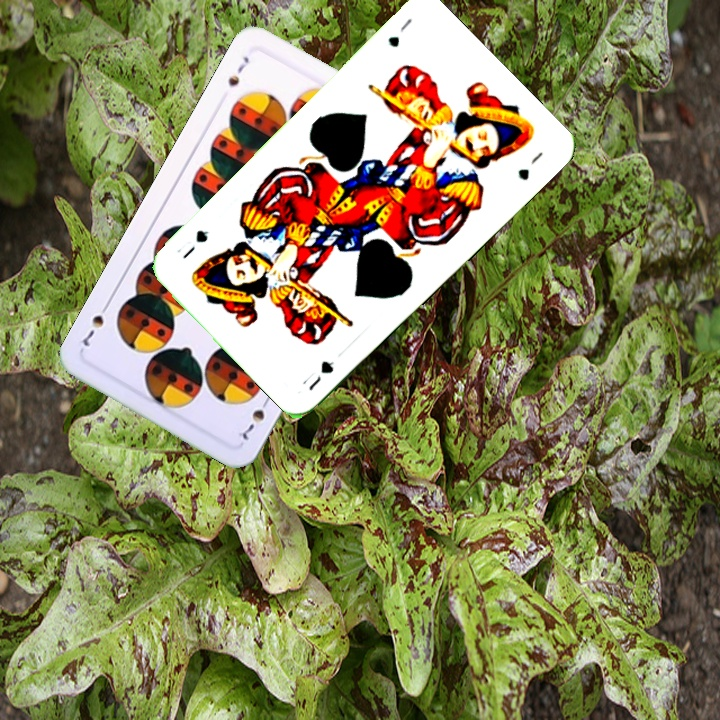GU: (297, 356, 337, 394), (383, 14, 415, 51)
S7: (234, 392, 273, 443), (224, 52, 252, 89)
